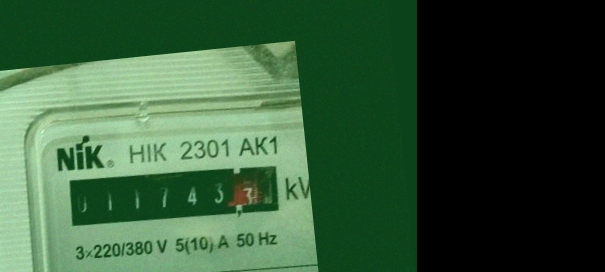0: (73, 187, 89, 215)
1: (100, 184, 116, 214), (127, 183, 143, 212)
3: (208, 178, 225, 207), (238, 185, 255, 208)
4: (183, 182, 199, 208)
7: (155, 183, 171, 209)
screen: (58, 153, 290, 240)
